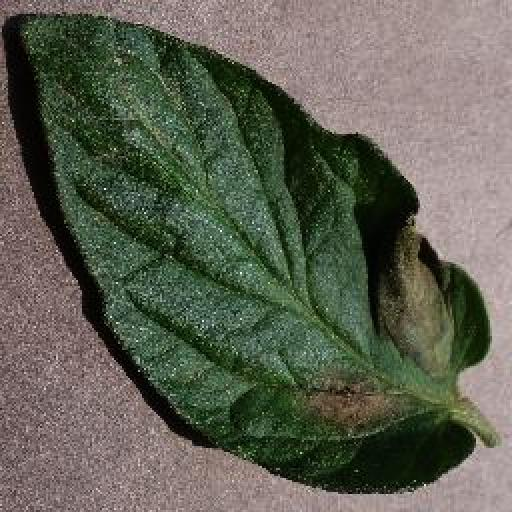disease_tomato: (15, 10, 493, 496)
